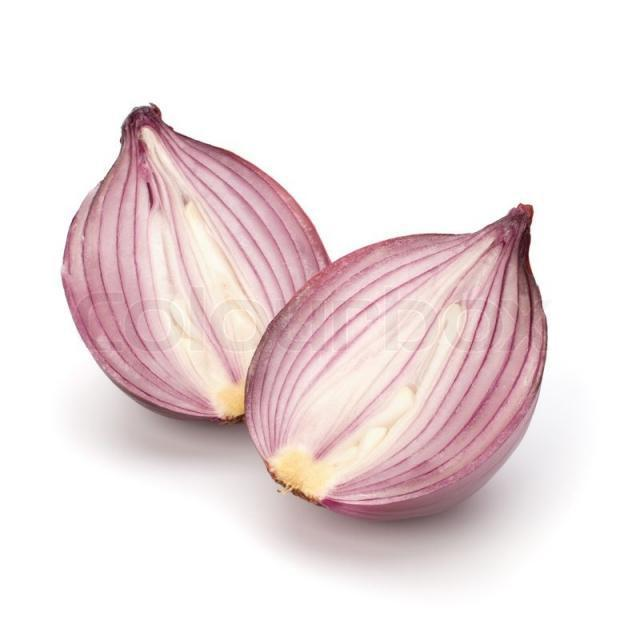onion: (240, 201, 554, 526), (59, 103, 330, 435)
